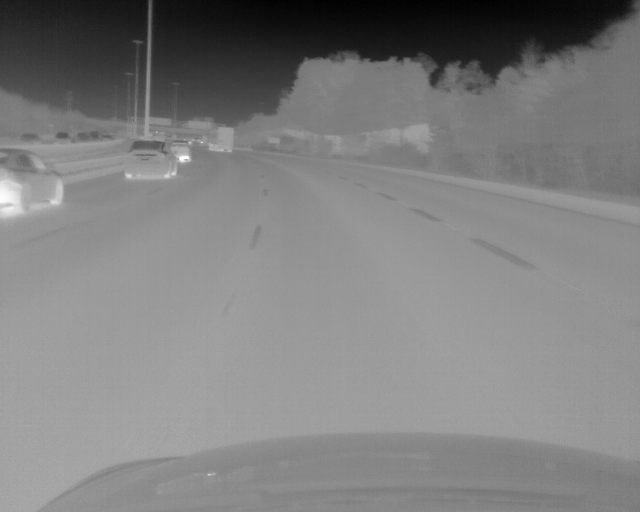car: (1, 150, 65, 215), (122, 140, 177, 179), (207, 126, 233, 153), (169, 140, 190, 163)
